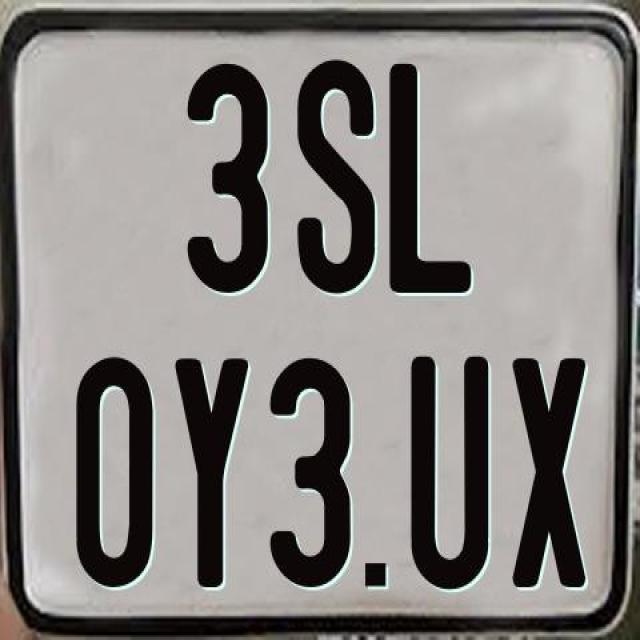0: (74, 356, 154, 588)
3: (265, 355, 355, 587), (184, 64, 272, 296)
L: (386, 64, 470, 298)
S: (296, 58, 375, 294)
U: (408, 356, 487, 594)
X: (512, 355, 594, 592)
Y: (174, 358, 248, 597)
